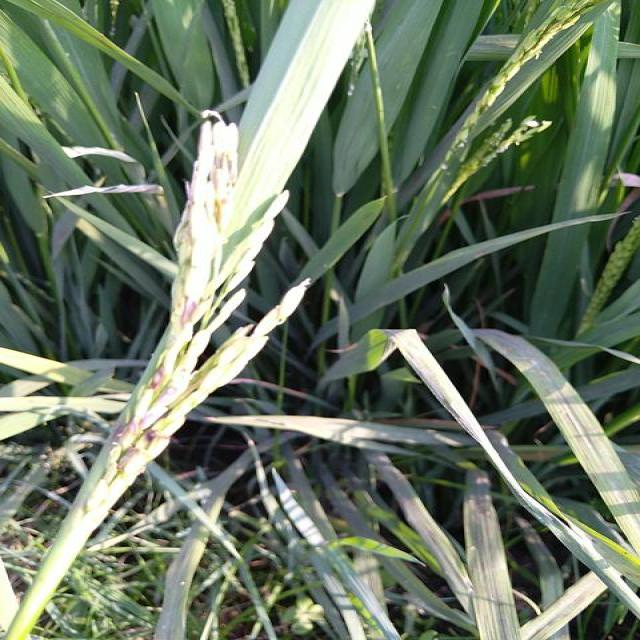Panicle Blight: (171, 117, 239, 336), (105, 417, 187, 503), (136, 348, 175, 401)
